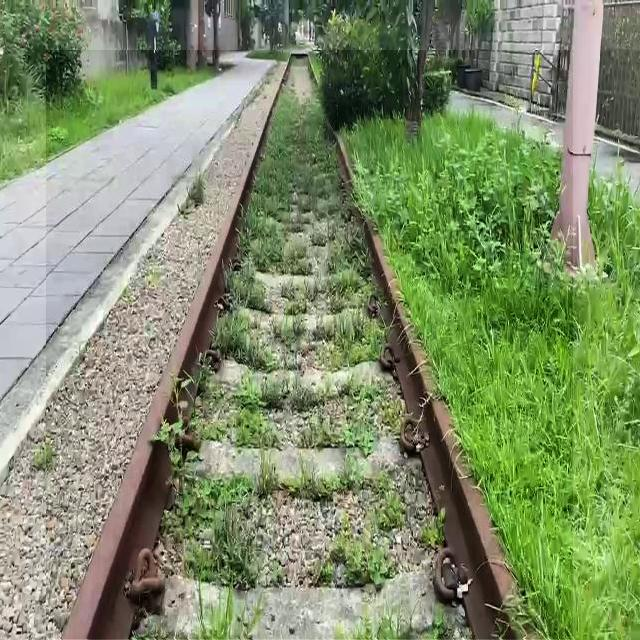rail: (49, 52, 574, 640)
